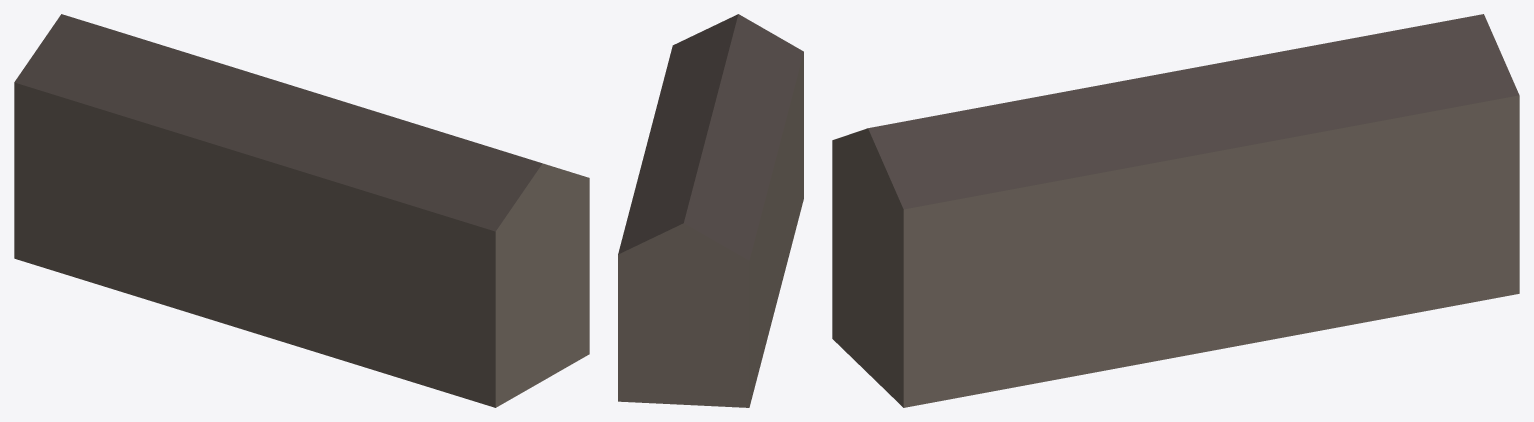
3 renders of one model, left to right at view 1: azimuth 30°, elevation 25°; view 2: azimuth 150°, elevation 25°; view 3: azimuth 270°, elevation 25°, orthographic. The views are drawn at different scales.
Parts seen in each view (by area): view 1: HP-w389701877; view 2: HP-w389701877; view 3: HP-w389701877.
Boxes of the visible parts, x1,y1,x2,y2 form: HP-w389701877: (14,14,589,407); HP-w389701877: (618,14,803,407); HP-w389701877: (832,14,1519,407).
Bounding box in the file's own units: 11.89 × 7.41 × 18.83.
